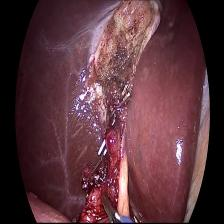Bipolar: (94, 193, 135, 224)
